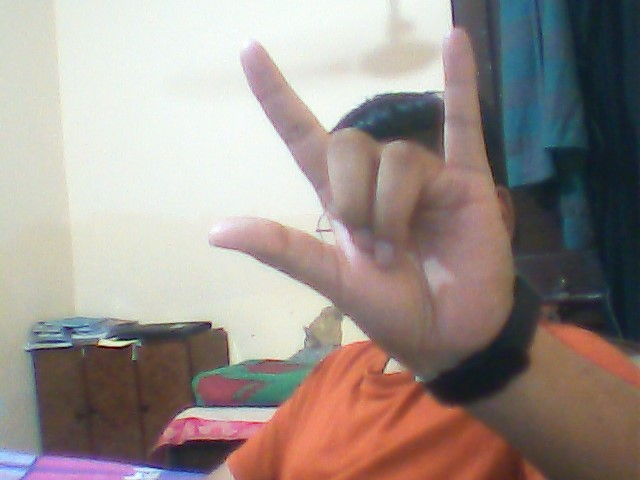Cheers: (206, 33, 522, 337)
